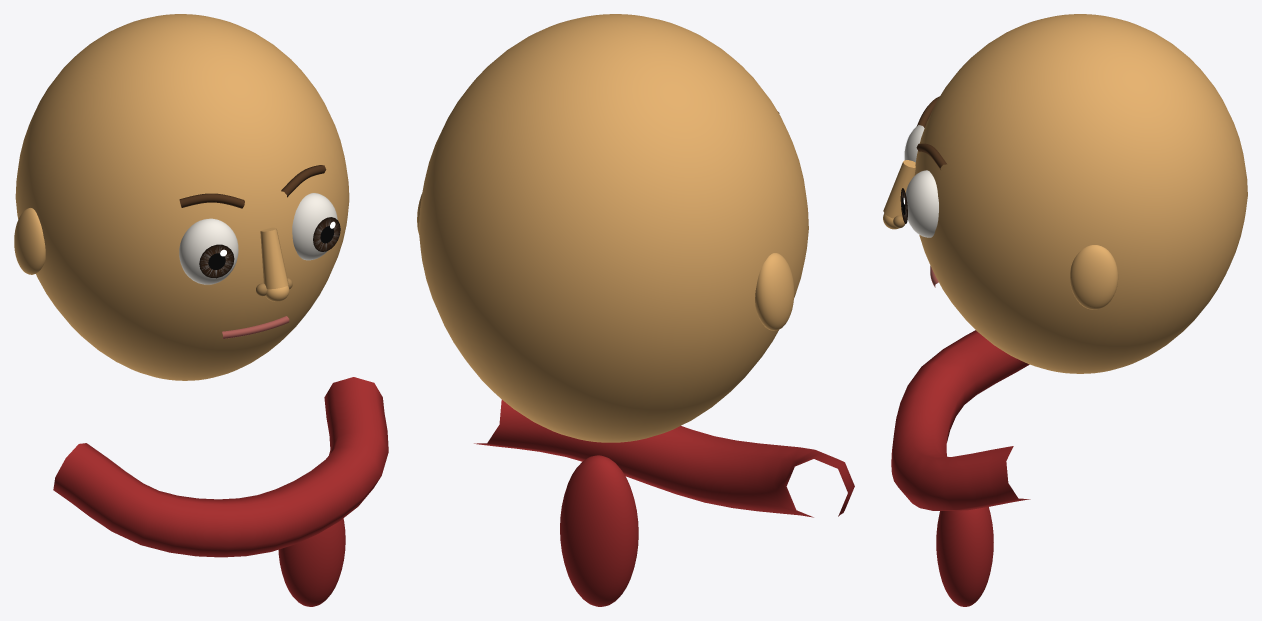
File: 09-echarpe.glb
The picture shows the model from 3 angles, left to right: view 1: azimuth 30°, elevation 25°; view 2: azimuth 150°, elevation 25°; view 3: azimuth 270°, elevation 25°; orthographic projection. The views are drawn at different scales.
Size of what is drawn, in the model's own units: 0.3234 by 0.5205 by 0.3166.
Materials: 10 (1 with a texture image).
